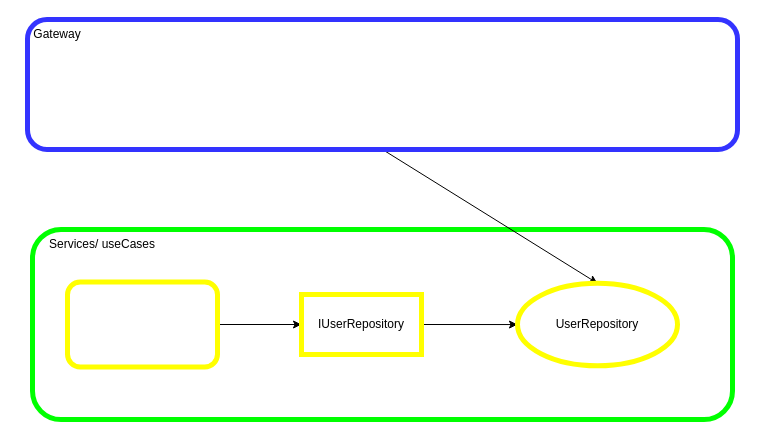
Image size: 757x439. Some labels were removed from this diagram. Here are the shapes that lost their labels. From the top down, the box of each, then its label:
(24, 16, 740, 152): Prisma
(64, 279, 220, 369): UserService
